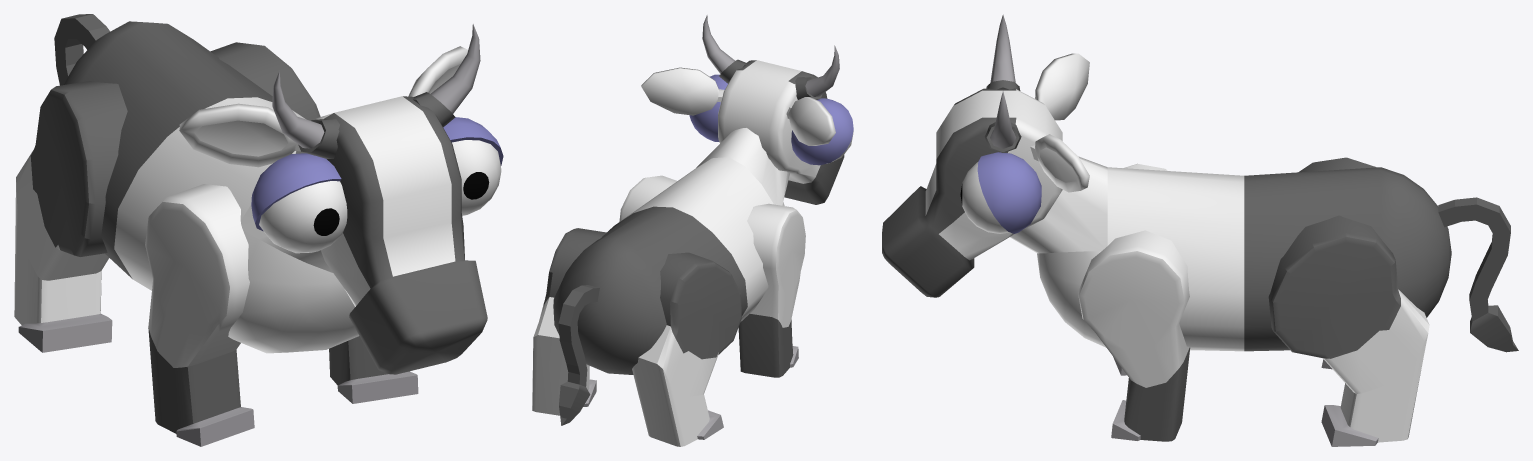
The model's file is Fauna_Bull.fbx.
The picture shows the model from 3 angles, left to right: view 1: azimuth 30°, elevation 25°; view 2: azimuth 150°, elevation 25°; view 3: azimuth 270°, elevation 25°; orthographic projection. The views are drawn at different scales.
Visible parts, largest first — view 1: Fauna_Bull, head, leg2, arm2, ear2, eye2, arm1, leg1, eyelid2, eye1, horn2, horn1 (+4 smaller); view 2: Fauna_Bull, leg2, arm2, head, leg1, tail, ear1, neck, eyelid2, ear2, arm1, horn1 (+2 smaller); view 3: Fauna_Bull, leg1, arm1, head, neck, tail, eyelid1, ear2, ear1, eye1, horn2, horn1 (+1 smaller).
Boxes of the visible parts, box(x1,y1,x2,y2) form: Fauna_Bull: box(63, 21, 359, 353); head: box(296, 96, 487, 374); leg2: box(14, 81, 127, 352); arm2: box(145, 184, 254, 446); ear2: box(179, 103, 300, 167); eye2: box(259, 181, 347, 253); arm1: box(329, 336, 418, 403); leg1: box(210, 42, 320, 120); eyelid2: box(251, 153, 341, 231); eye1: box(452, 140, 501, 215); horn2: box(272, 71, 339, 158); horn1: box(413, 24, 480, 127); Fauna_Bull: box(553, 157, 784, 374); leg2: box(632, 252, 741, 446); arm2: box(738, 203, 805, 377); head: box(718, 60, 844, 204); leg1: box(532, 228, 606, 415); tail: box(558, 285, 599, 425); ear1: box(641, 67, 724, 115); neck: box(696, 128, 789, 205); eyelid2: box(791, 98, 853, 165); ear2: box(786, 97, 835, 145); arm1: box(619, 175, 677, 221); horn1: box(702, 15, 746, 83); Fauna_Bull: box(1037, 167, 1451, 351); leg1: box(1268, 215, 1429, 446); arm1: box(1078, 230, 1190, 441); head: box(882, 88, 1062, 297); neck: box(1010, 156, 1107, 253); tail: box(1438, 197, 1518, 352); eyelid1: box(977, 152, 1041, 233); ear2: box(1035, 53, 1089, 120); ear1: box(1030, 134, 1089, 192); eye1: box(960, 162, 1009, 233); horn2: box(986, 14, 1020, 90); horn1: box(984, 91, 1021, 152).
Bounding box in the file's own units: 1.5 × 2.05 × 3.45.
